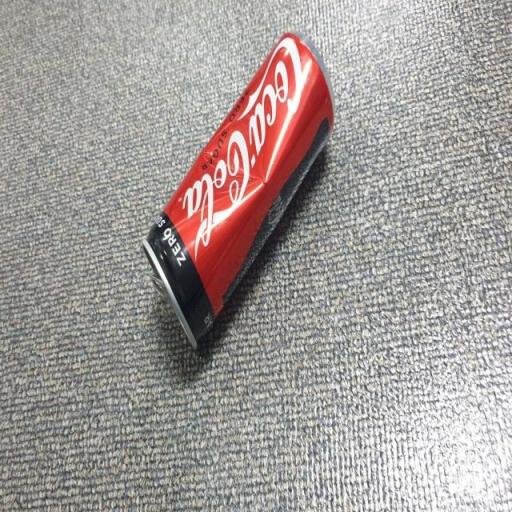metal: (134, 18, 346, 386)
